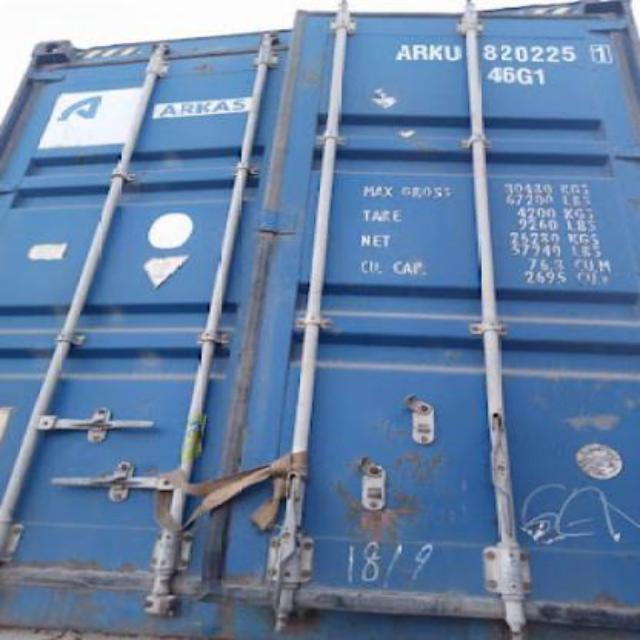0: (516, 45, 530, 61)
1: (596, 48, 608, 62)
2: (544, 43, 560, 63), (530, 45, 544, 65), (501, 44, 514, 60)
5: (560, 44, 576, 64)
8: (482, 44, 500, 60)
A: (396, 42, 412, 62)
K: (430, 44, 442, 60)
R: (412, 44, 430, 60)
U: (442, 43, 460, 63)
